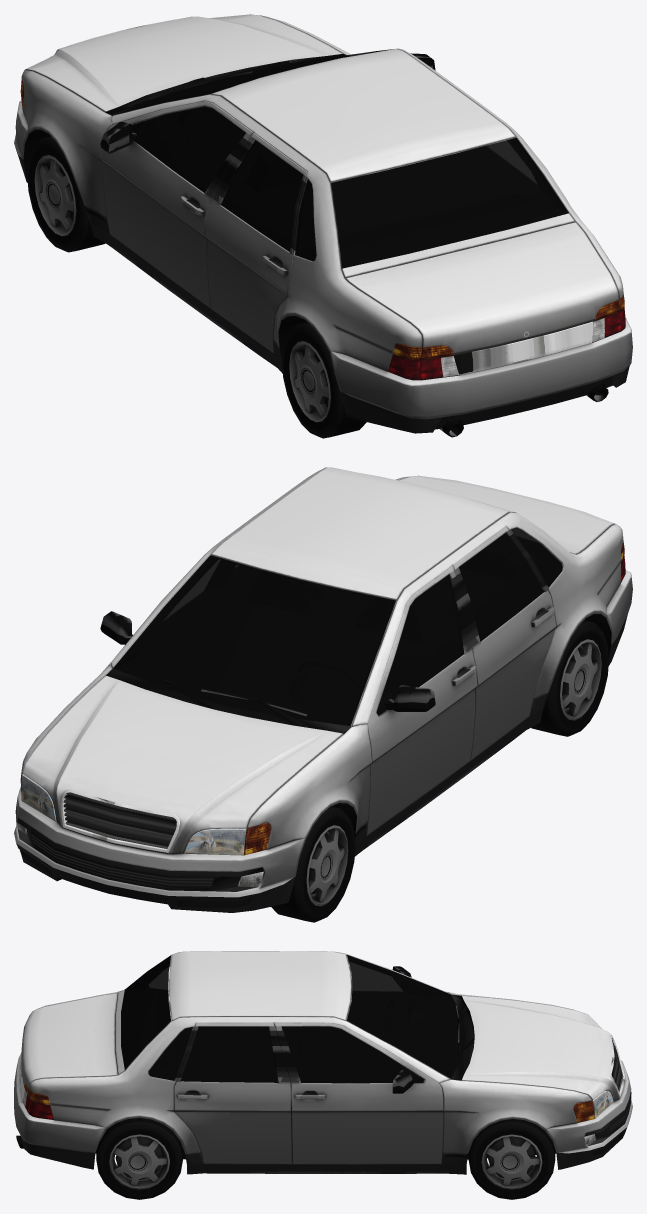
The model's file is sedan.glb.
The picture shows the model from 3 angles, top to bottom: view 1: azimuth 30°, elevation 25°; view 2: azimuth 150°, elevation 25°; view 3: azimuth 270°, elevation 25°; orthographic projection. The views are drawn at different scales.
Visible parts, largest first — view 1: Sedan Body, Wheel_A001, Wheel_A; view 2: Sedan Body, Wheel_A, Wheel_A001; view 3: Sedan Body, Wheel_A003, Wheel_A002.
Boxes of the visible parts, x1,y1,x2,y2 form: Sedan Body: (14, 14, 632, 437); Wheel_A001: (282, 322, 366, 438); Wheel_A: (27, 136, 105, 252); Sedan Body: (14, 467, 632, 912); Wheel_A: (271, 806, 355, 922); Wheel_A001: (531, 620, 608, 736); Sedan Body: (14, 951, 632, 1174); Wheel_A003: (96, 1118, 182, 1199); Wheel_A002: (468, 1119, 555, 1199).
Size of the model in its own units: 1.94 by 1.34 by 4.36.
Materials: 4 (3 with a texture image).
